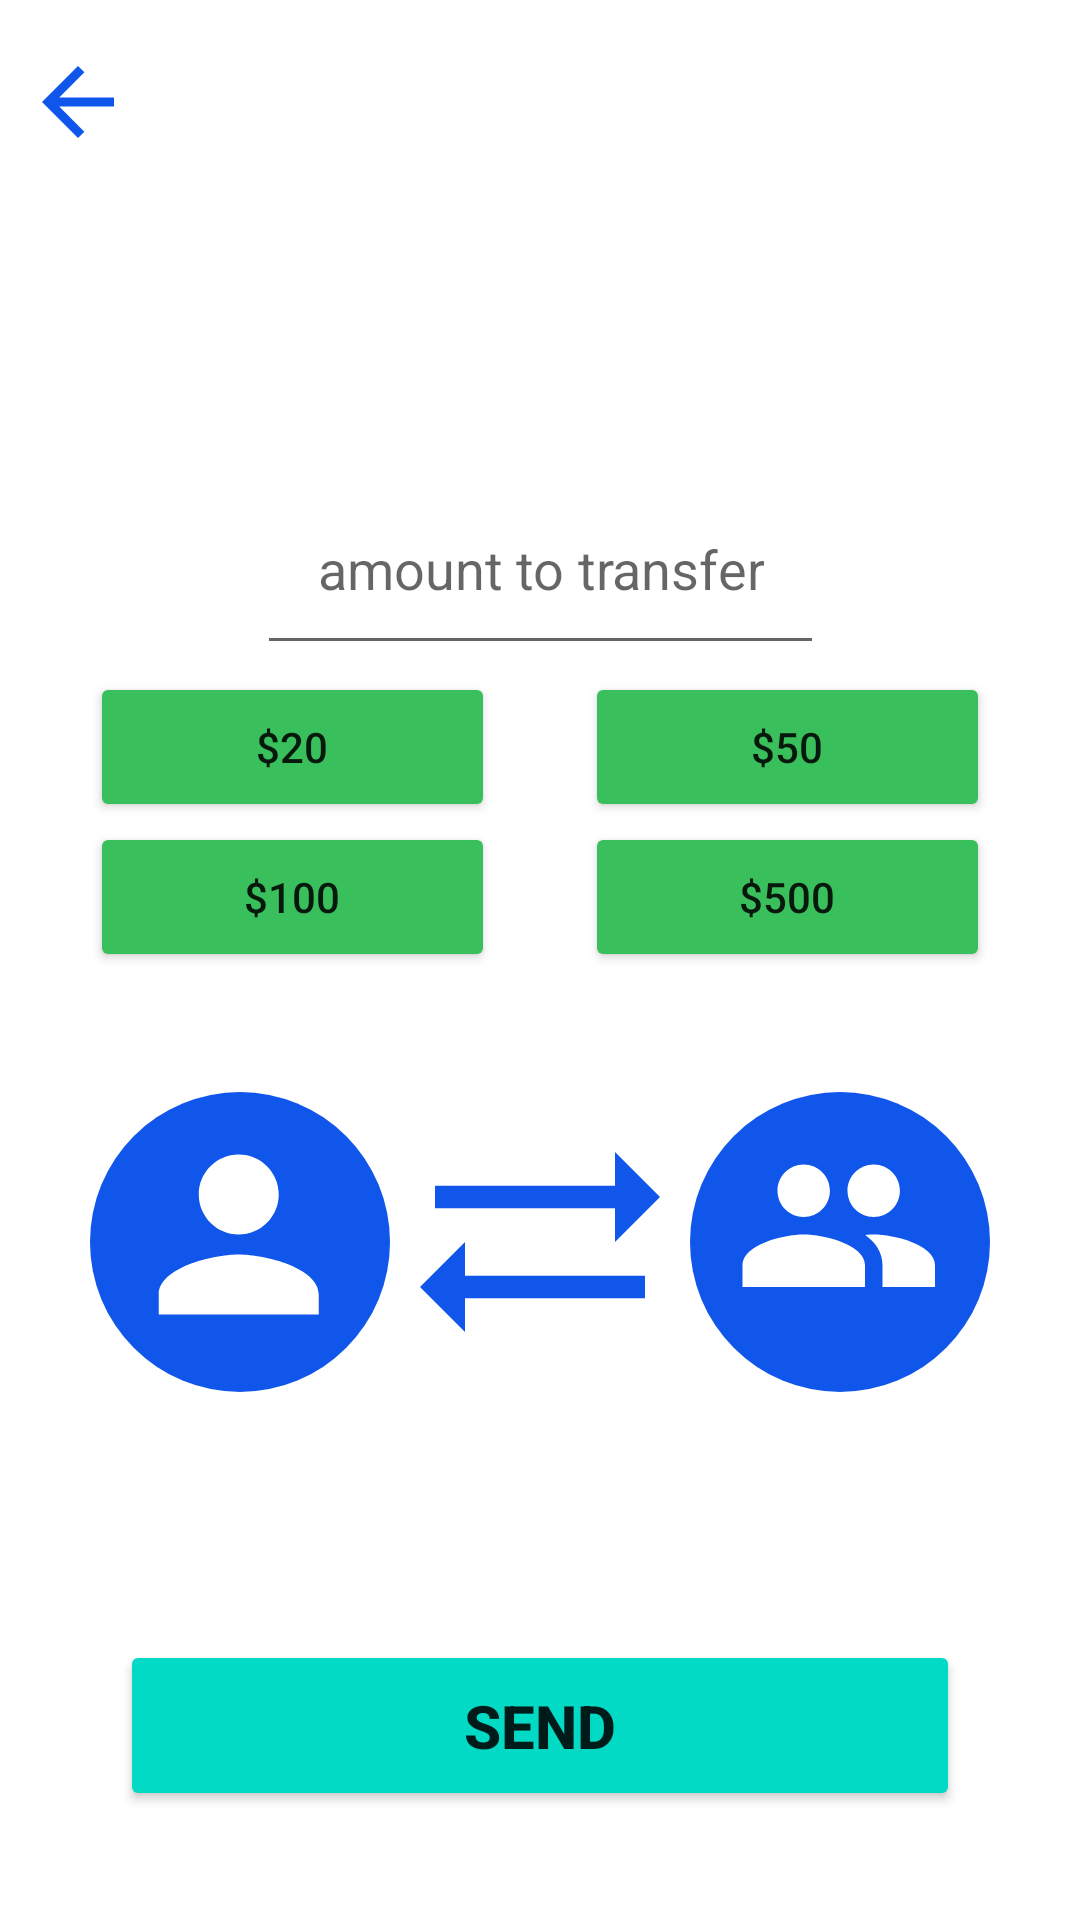

Screen size 1080px×1920px. Icon name, then its box in pixels as (x1, y1, x2, y2):
arrow back: (42, 66, 114, 138)
family round: (690, 1092, 990, 1392)
transfer arrows: (420, 1152, 660, 1332)
